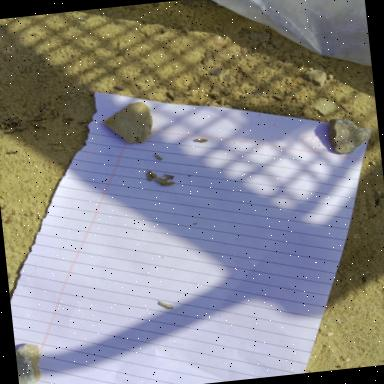pbw: (155, 298, 172, 310), (155, 176, 168, 186), (160, 173, 174, 182), (148, 168, 158, 179), (190, 138, 207, 144), (146, 170, 154, 182), (154, 152, 164, 160), (162, 182, 176, 186)
